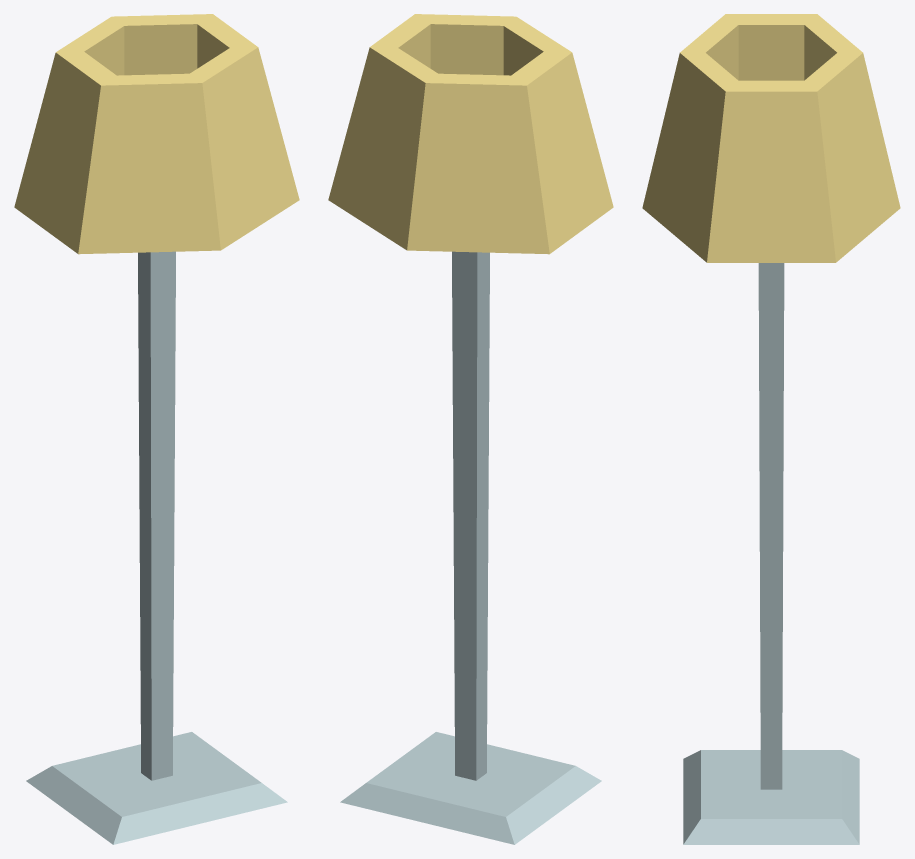
The model's file is furn-floor-lamp-tripod.glb.
The picture shows the model from 3 angles, left to right: view 1: azimuth 30°, elevation 25°; view 2: azimuth 150°, elevation 25°; view 3: azimuth 270°, elevation 25°; orthographic projection.
Parts seen in each view (by area): view 1: lampRoundFloor; view 2: lampRoundFloor; view 3: lampRoundFloor.
Part boxes in pixels (x1=…): lampRoundFloor: x1=14, y1=14, x2=299, y2=844; lampRoundFloor: x1=328, y1=14, x2=613, y2=844; lampRoundFloor: x1=642, y1=14, x2=900, y2=844.
Bounding box in the file's own units: 0.5 × 1.6 × 0.5.
